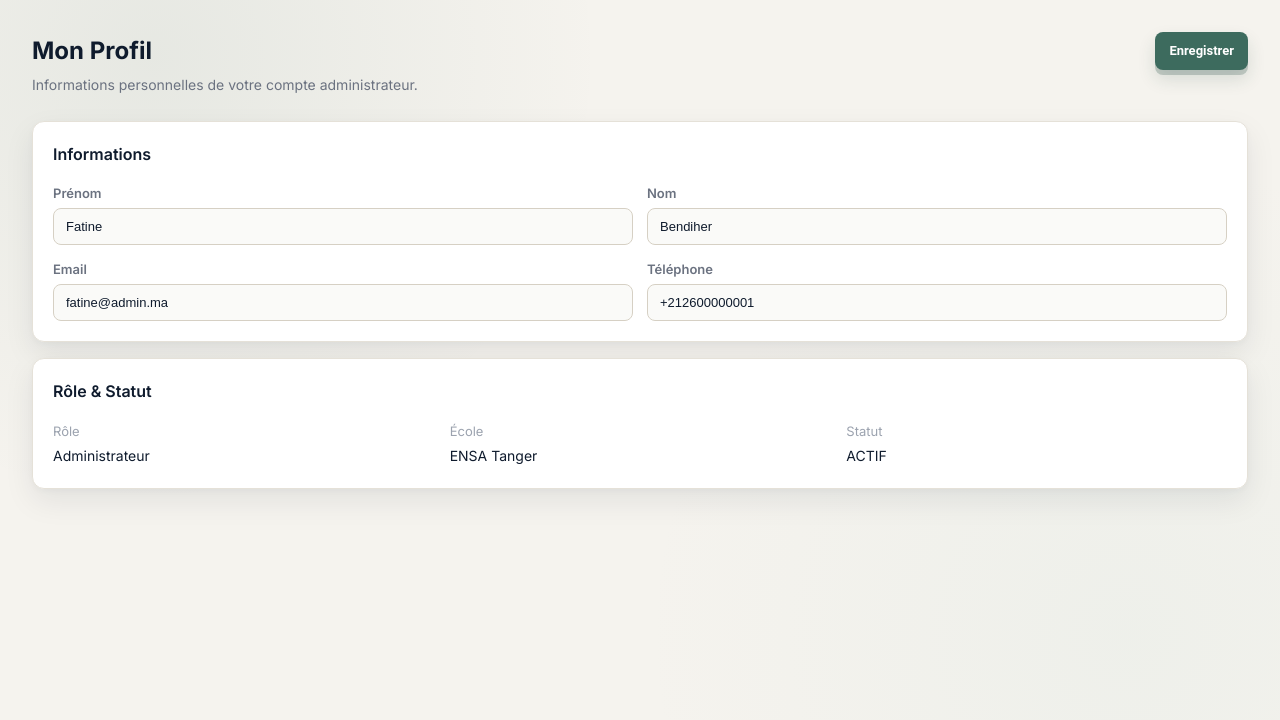
Test: AdminProfile.vue — Tests d'Intégration › 19 — après sauvegarde réussie, affiche "Profil mis à jour" dans .msg.msg--ok
Click the button with class "btn--primary".
click(1202, 51)  # box [1155,32,1248,70]
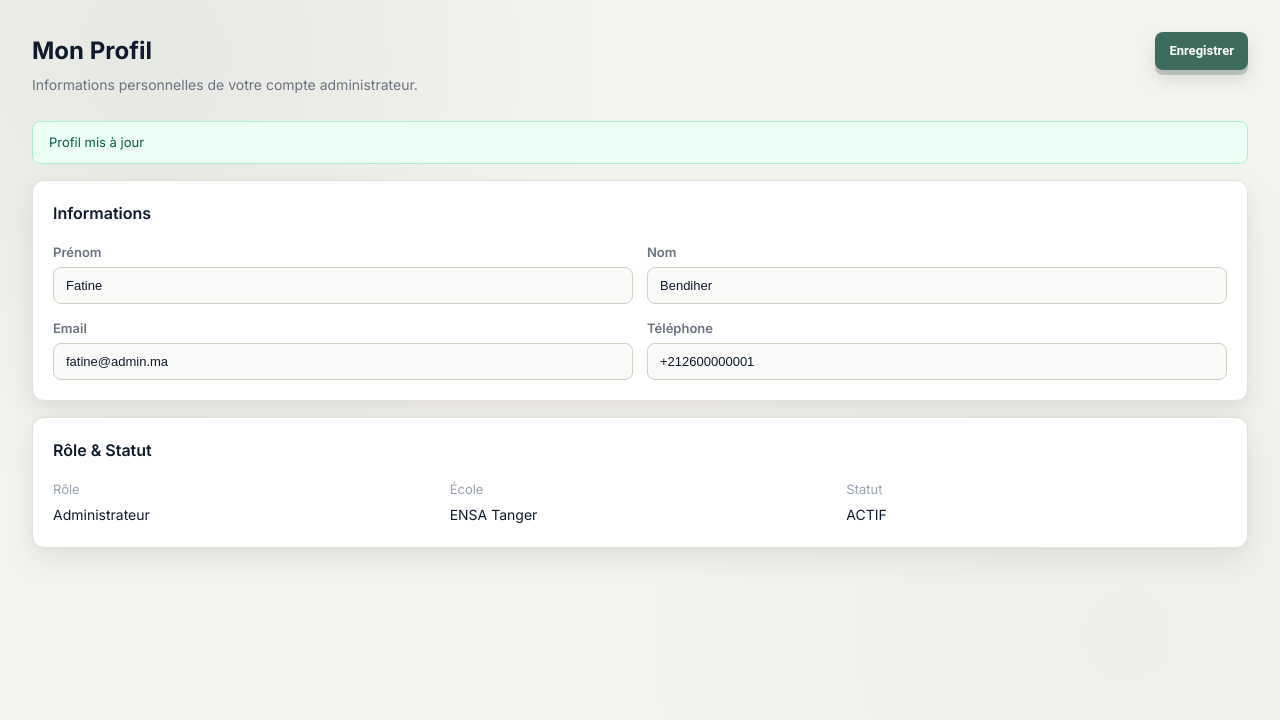
Expected: the text with class "msg--ok" reads "Profil mis à jour", [49,134,144,150]
